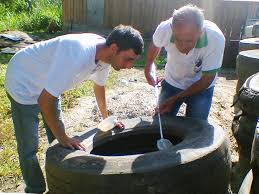tire: (45, 115, 231, 194)
